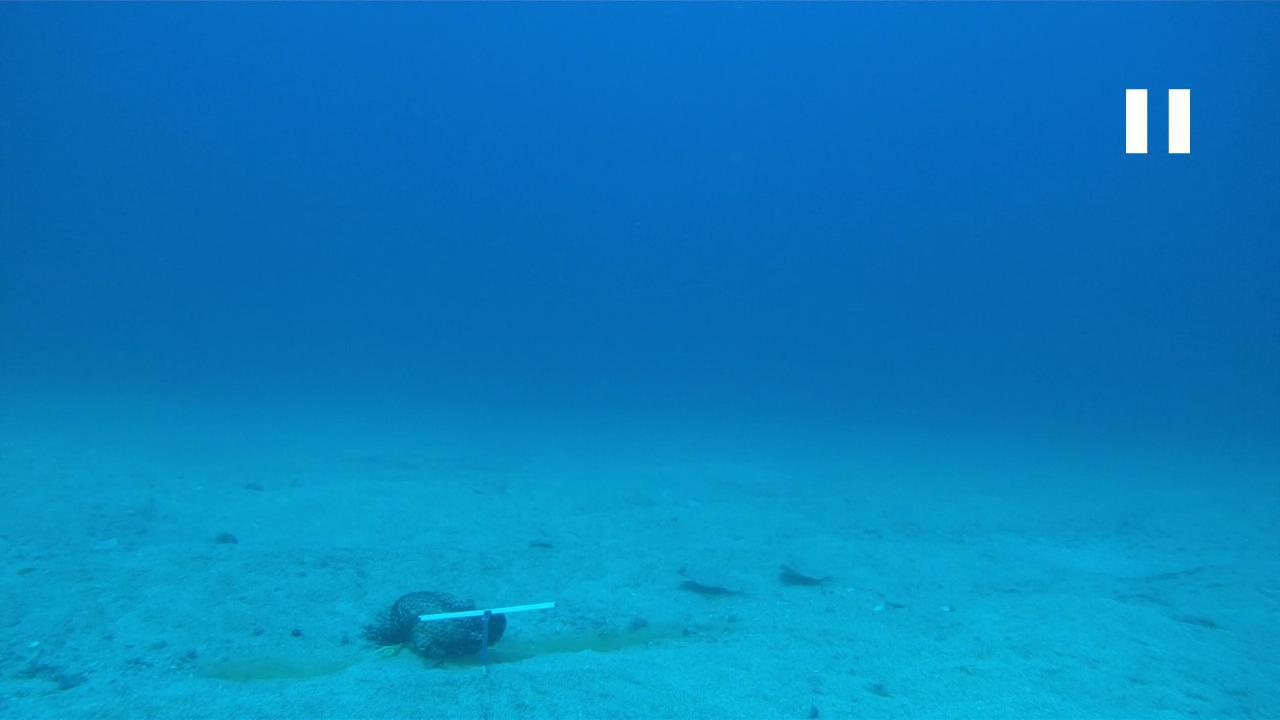bothus: (667, 562, 746, 602), (770, 553, 840, 592)
